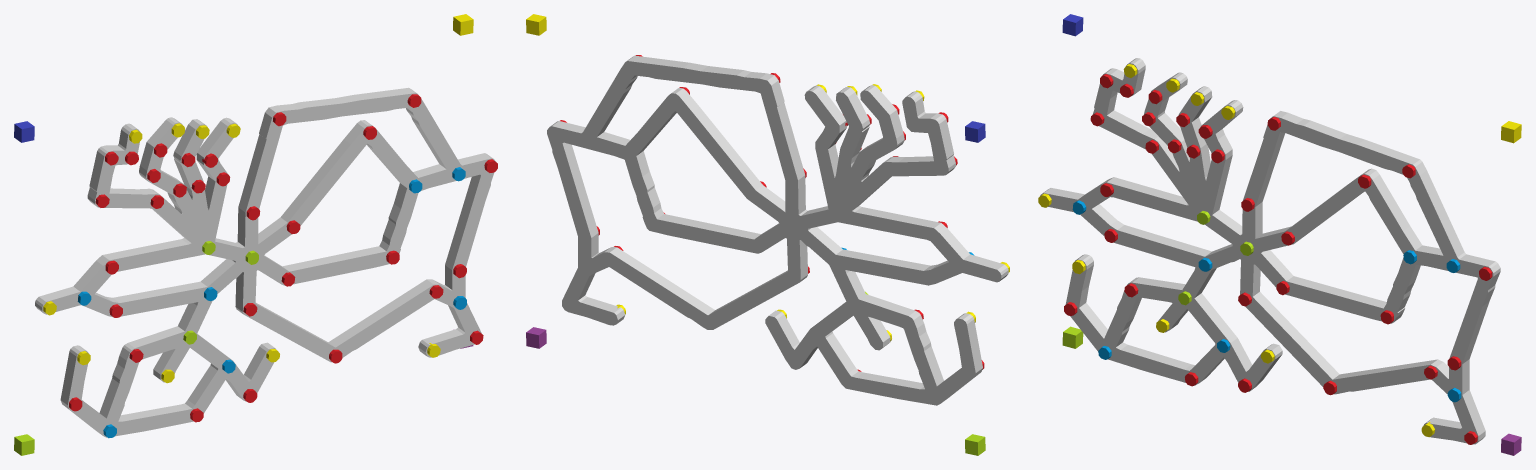
File: demonetwork_from_screenshot.obj
3 views of the same model, side by side, from view 1: azimuth 30°, elevation 25°; view 2: azimuth 150°, elevation 25°; view 3: azimuth 330°, elevation 25° (orthographic).
Visible parts, largest first — view 1: Object.1; view 2: Object.1; view 3: Object.1.
Part boxes in pixels (<box>): Object.1: <box>35,87,495,437</box>; Object.1: <box>547,55,1008,405</box>; Object.1: <box>1040,58,1500,444</box>.
Size of the model in its own units: 208 by 143 by 25.17.
